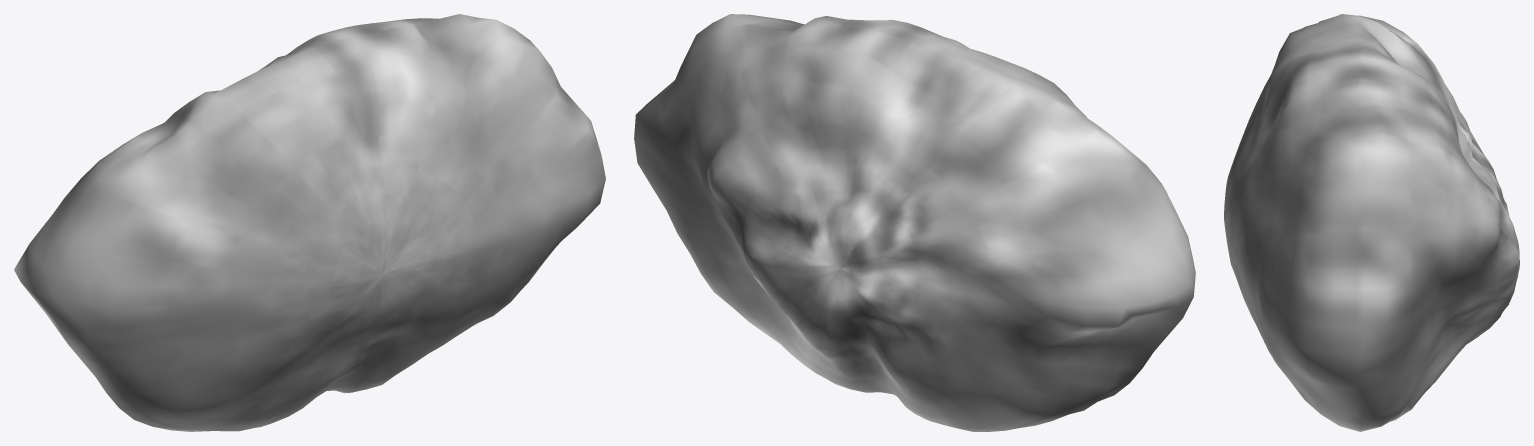
The model's file is prometheus.dae.
The picture shows the model from 3 angles, left to right: view 1: azimuth 30°, elevation 25°; view 2: azimuth 150°, elevation 25°; view 3: azimuth 270°, elevation 25°; orthographic projection.
Visible parts, largest first — view 1: obj_0; view 2: obj_0; view 3: obj_0.
Part boxes in pixels (bbox=[...]): obj_0: bbox=[14, 14, 605, 431]; obj_0: bbox=[634, 14, 1195, 431]; obj_0: bbox=[1224, 14, 1519, 431].
Bounding box in the file's own units: 1.48 × 0.6839 × 0.9267.
Materials: 1 (1 with a texture image).
